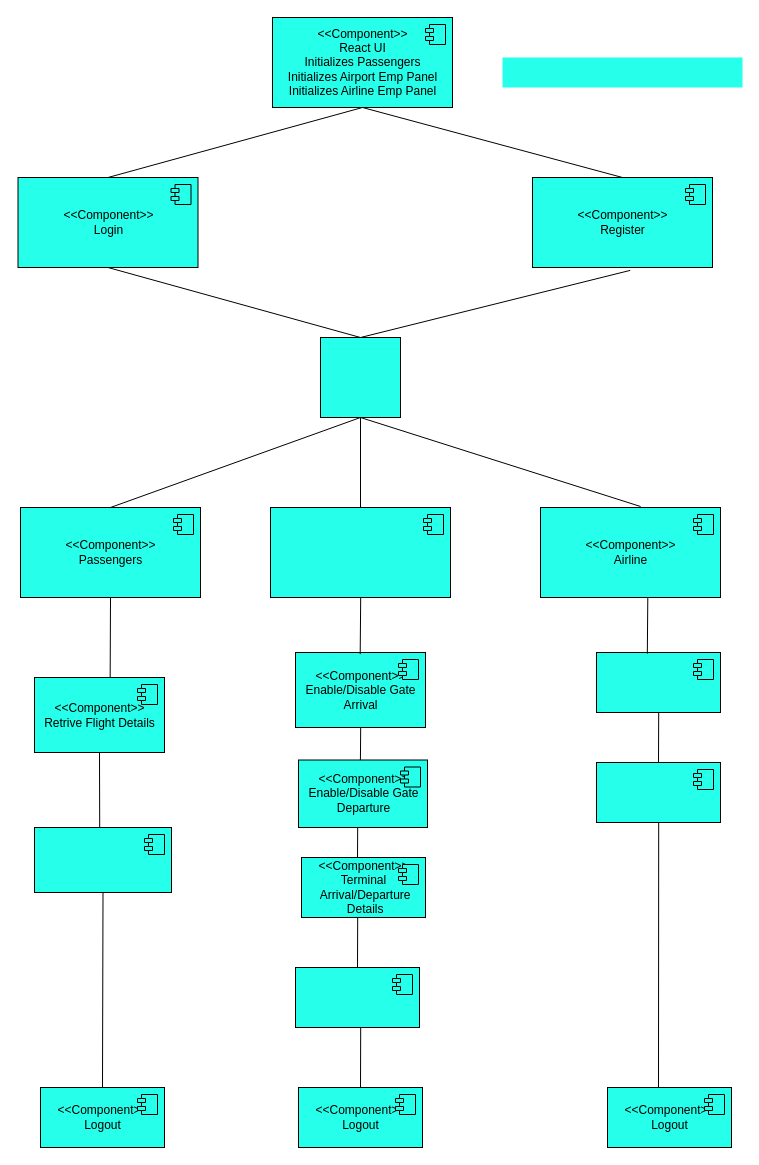
Some shapes in this 759 by 1165 pixel diagram are drawn without their labels. The shapes that lost their labels are listed below. From the top down, each one's centre as x and y in pixels, then its label:
At [622,72]: "Component Diagram".
At [360,552]: "<<Component>> Airplane".
At [658,682]: "<<Component>> Add/Update Schedule".
At [658,792]: "<<Component>> Assign Gates".
At [103,859]: "<<Component>> Baggage Information".
At [357,997]: "<<Component>> Assign Baggage Carousel".
